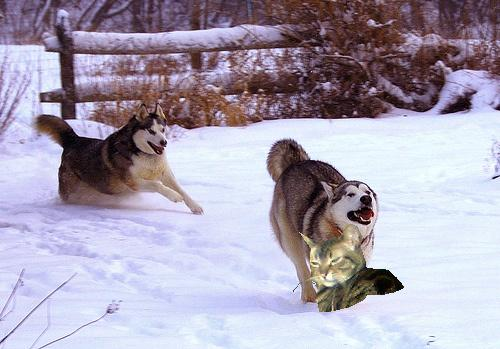tampered: (294, 225, 404, 312)
